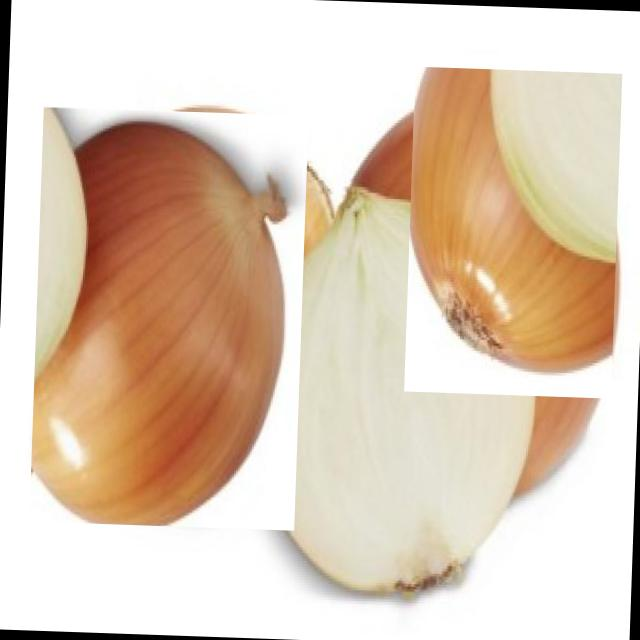Onion: (251, 178, 541, 607), (29, 106, 309, 530), (403, 65, 622, 398)
